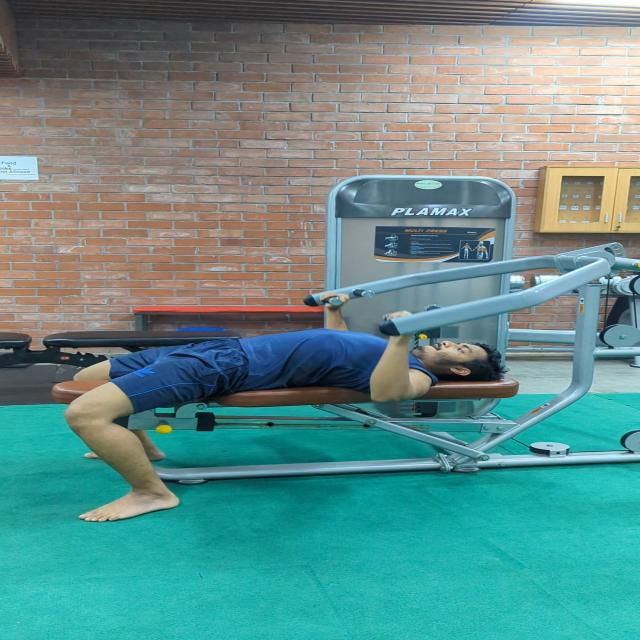Normal_BrenchPress: (19, 302, 580, 549)
